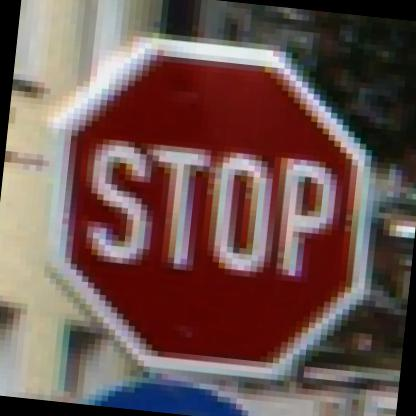stop: (8, 13, 404, 403)
